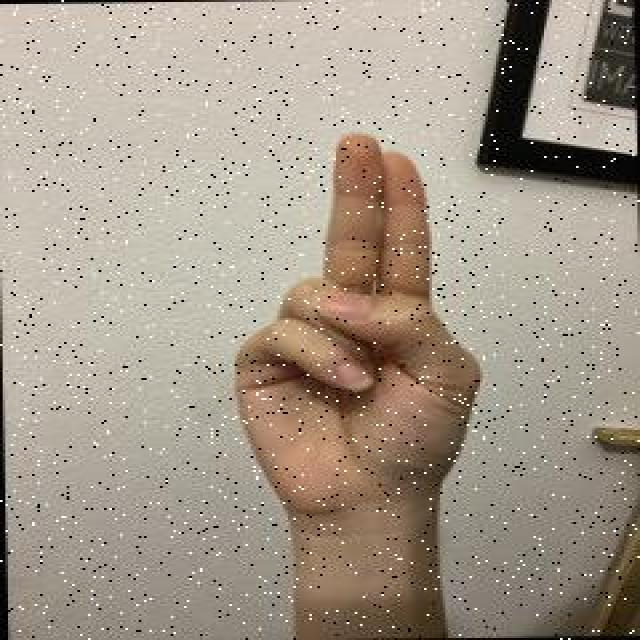U: (223, 124, 487, 522)
